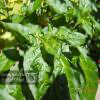Bell_pepper leaf: (23, 44, 54, 99), (54, 55, 78, 99), (21, 24, 45, 41), (43, 36, 62, 57), (56, 28, 78, 41), (56, 27, 78, 40)
